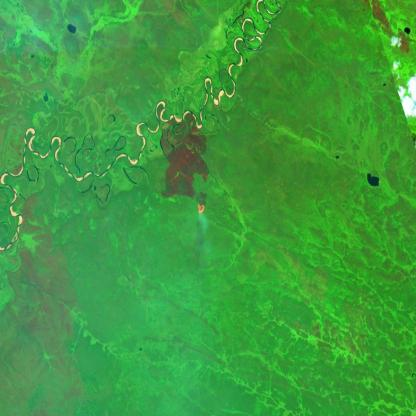fire: (186, 194, 210, 222)
